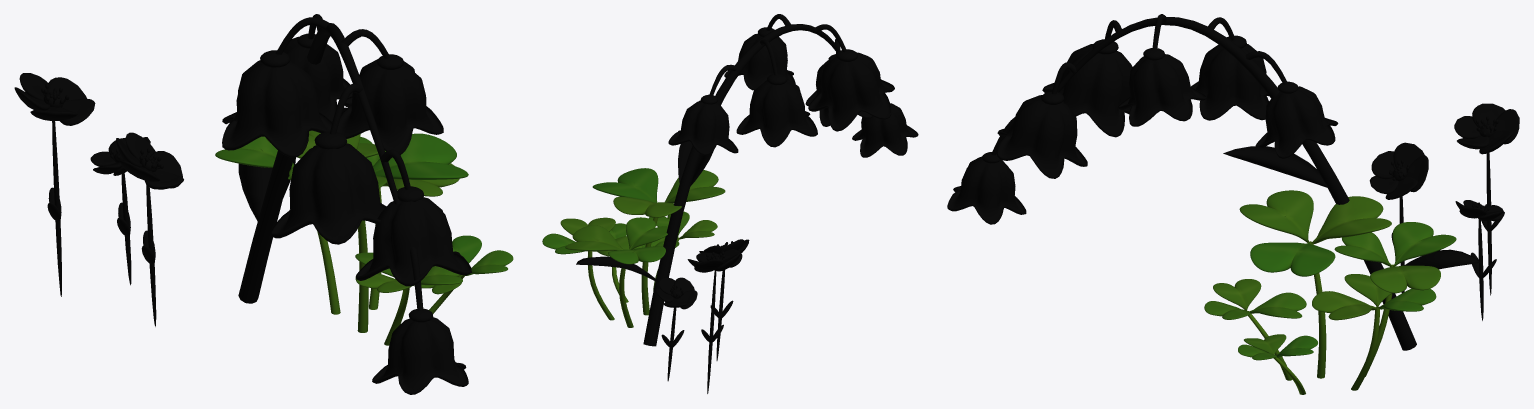
Rendered from painted_mixed_blooms.glb.
3 views of the same model, side by side, from view 1: azimuth 30°, elevation 25°; view 2: azimuth 150°, elevation 25°; view 3: azimuth 270°, elevation 25° (orthographic). The views are drawn at different scales.
Visible parts, largest first — view 1: SM_Painted_MixedBlooms; view 2: SM_Painted_MixedBlooms; view 3: SM_Painted_MixedBlooms.
Boxes of the visible parts, box(x1,y1,x2,y2) form: SM_Painted_MixedBlooms: box(14, 14, 513, 394); SM_Painted_MixedBlooms: box(542, 14, 918, 393); SM_Painted_MixedBlooms: box(947, 14, 1519, 394).
Size of the model in its own units: 0.8494 by 0.9218 by 1.49.
